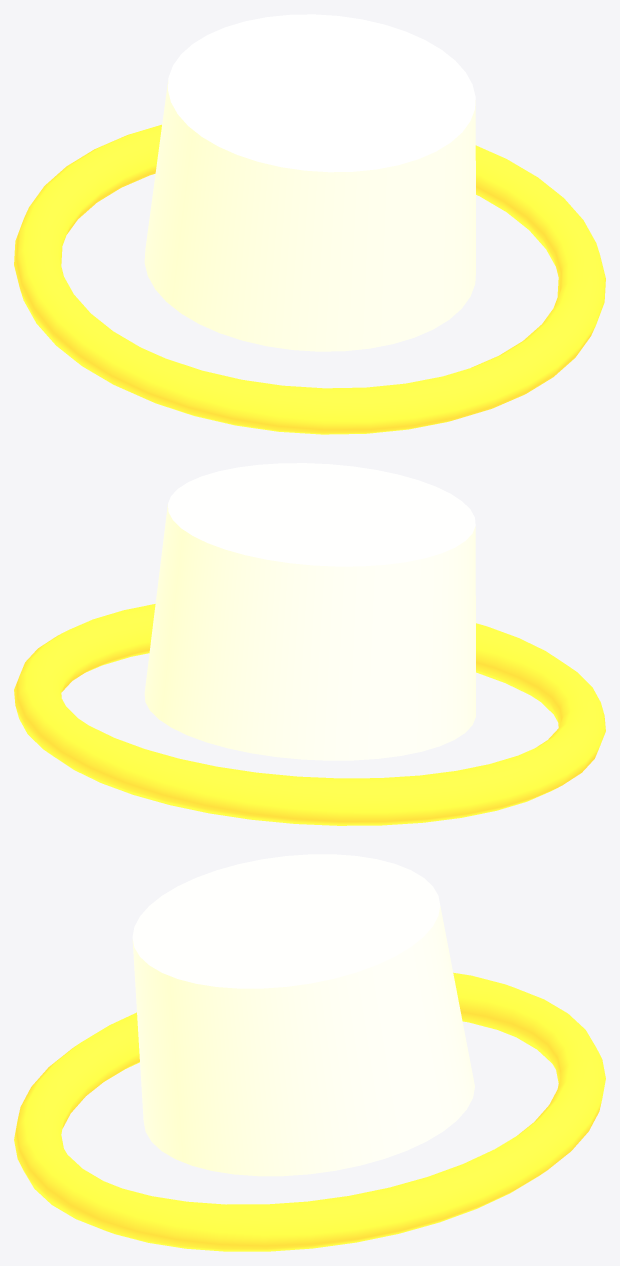
File: pp_light_bumper1.glb
3 views of the same model, one above another, from view 1: azimuth 30°, elevation 25°; view 2: azimuth 150°, elevation 25°; view 3: azimuth 270°, elevation 25° (orthographic).
Visible parts, largest first — view 1: BumperFlash, BumperRing; view 2: BumperFlash, BumperRing; view 3: BumperFlash, BumperRing.
Part boxes in pixels (bbox=[...]): BumperFlash: bbox=[144, 14, 475, 351]; BumperRing: bbox=[14, 124, 605, 434]; BumperFlash: bbox=[144, 463, 475, 760]; BumperRing: bbox=[14, 604, 605, 825]; BumperFlash: bbox=[132, 854, 474, 1176]; BumperRing: bbox=[14, 972, 605, 1251].
Size of the model in its own units: 0.1 by 0.0468 by 0.0994.
